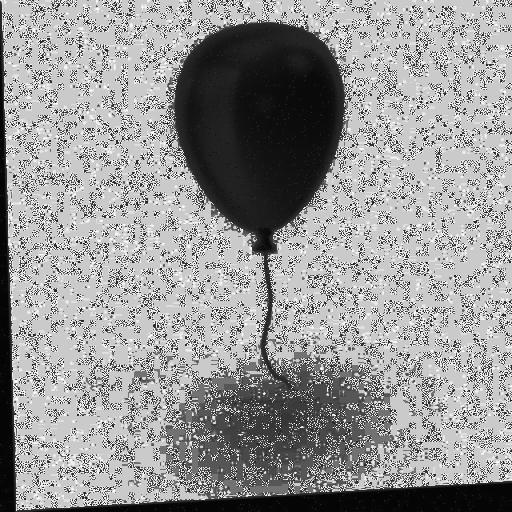balloon: (162, 10, 354, 268)
